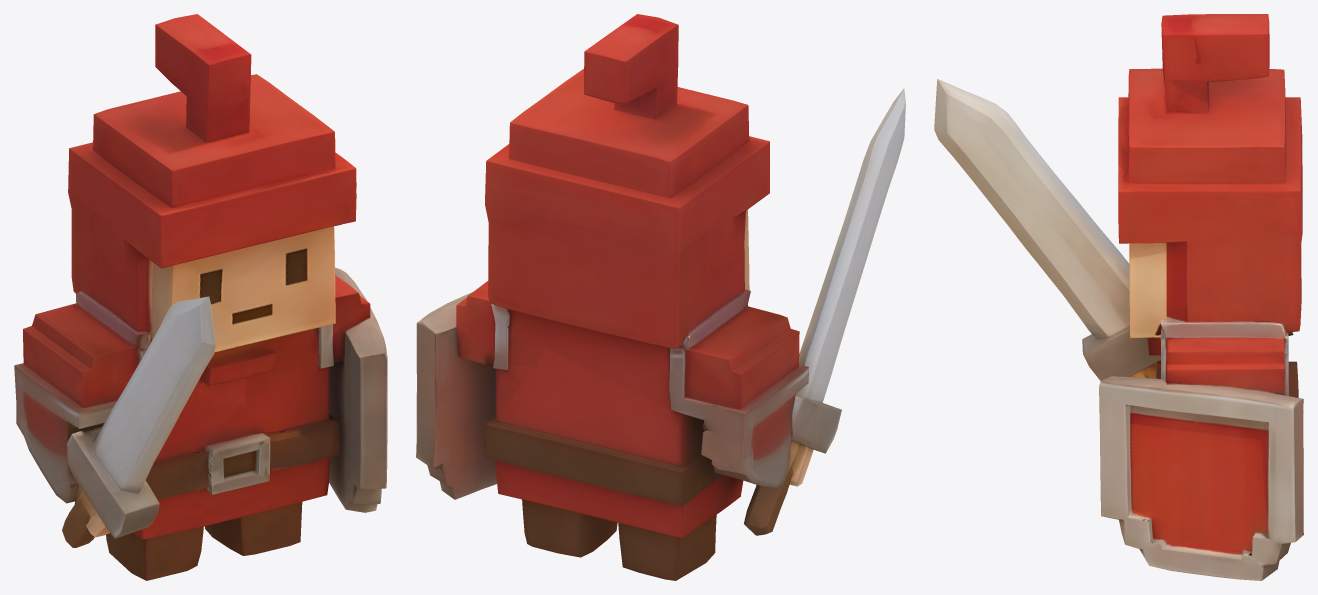
The model's file is Warrior_shaded.glb.
3 renders of one model, left to right at view 1: azimuth 30°, elevation 25°; view 2: azimuth 150°, elevation 25°; view 3: azimuth 270°, elevation 25°, orthographic.
Visible parts, largest first — view 1: model; view 2: model; view 3: model.
Boxes of the visible parts, x1,y1,x2,y2 form: model: (14,14,387,580); model: (416,14,905,580); model: (934,14,1303,580).
Size of the model in its own units: 1.2 by 1.78 by 1.17.
1 material, 1 textured.
